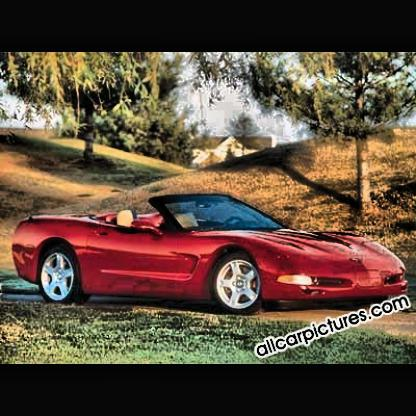Chevrolet Corvette Convertible 2012: (12, 194, 408, 316)
